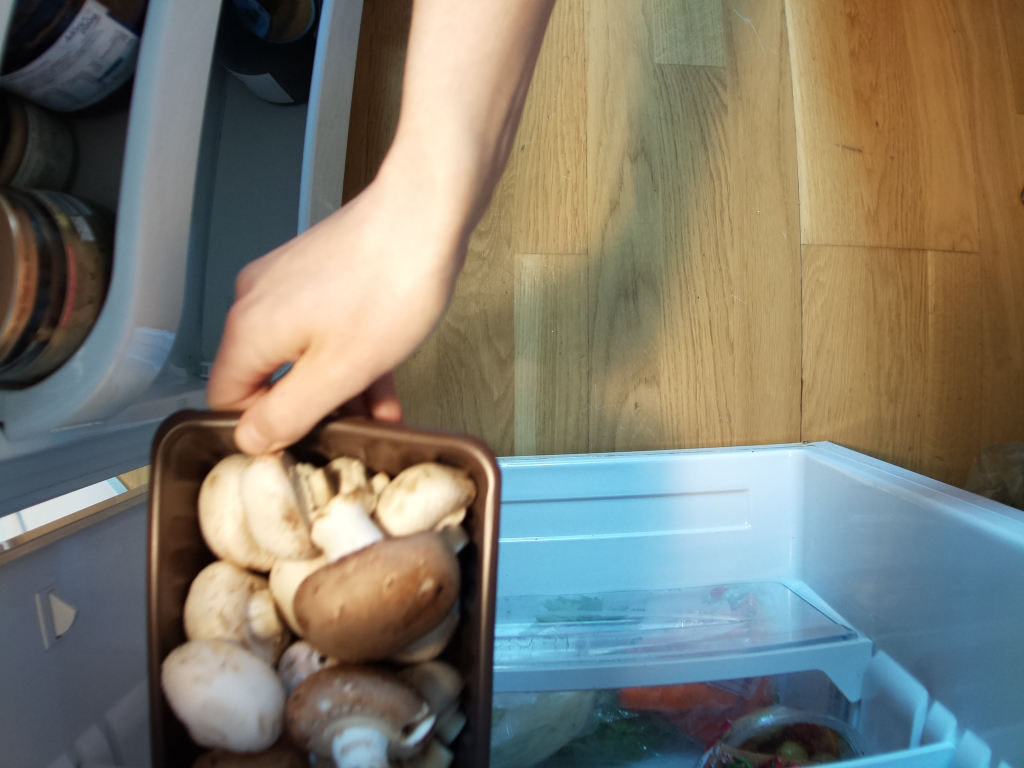mushrooms: (143, 404, 506, 768)
